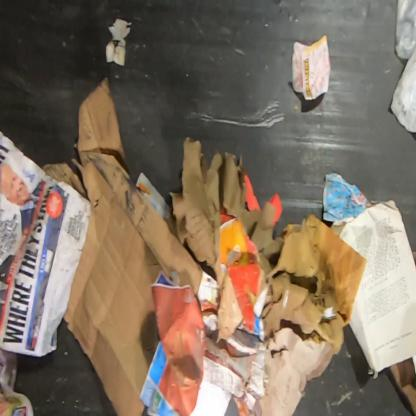cardboard: (163, 136, 368, 415), (42, 76, 203, 415), (388, 355, 415, 415)
soft_plastic: (395, 0, 415, 61)
